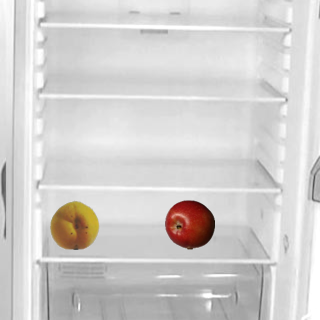Apple Braeburn: (164, 199, 214, 249)
Peach 2: (49, 199, 99, 249)
